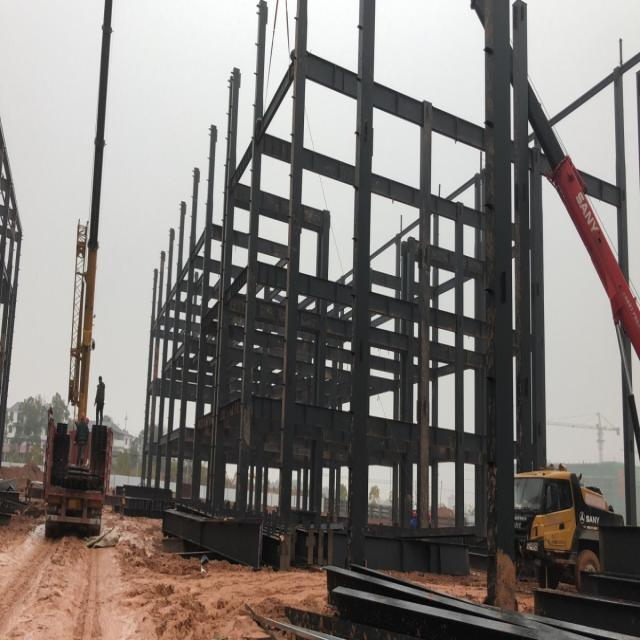crane: (470, 0, 639, 591), (43, 0, 113, 538)
